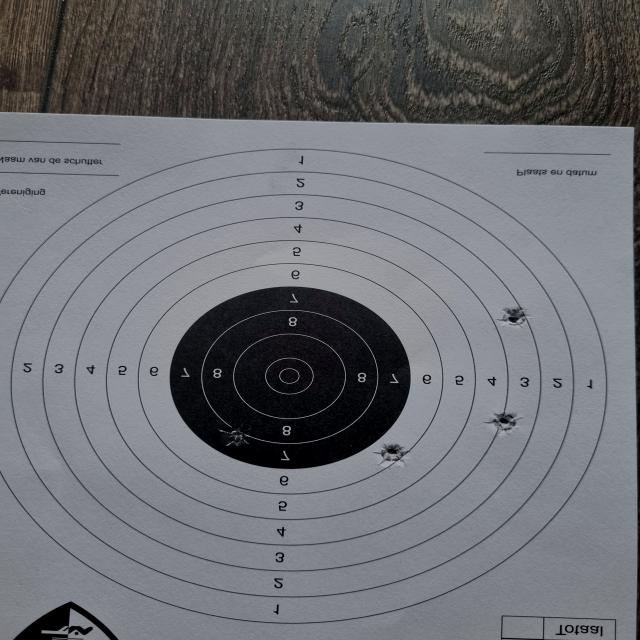3: (498, 306, 530, 328)
4: (488, 409, 523, 434)
6: (376, 442, 411, 466)
8: (218, 424, 251, 448)
Target: (0, 140, 611, 634)
black_contour: (170, 284, 407, 465)
